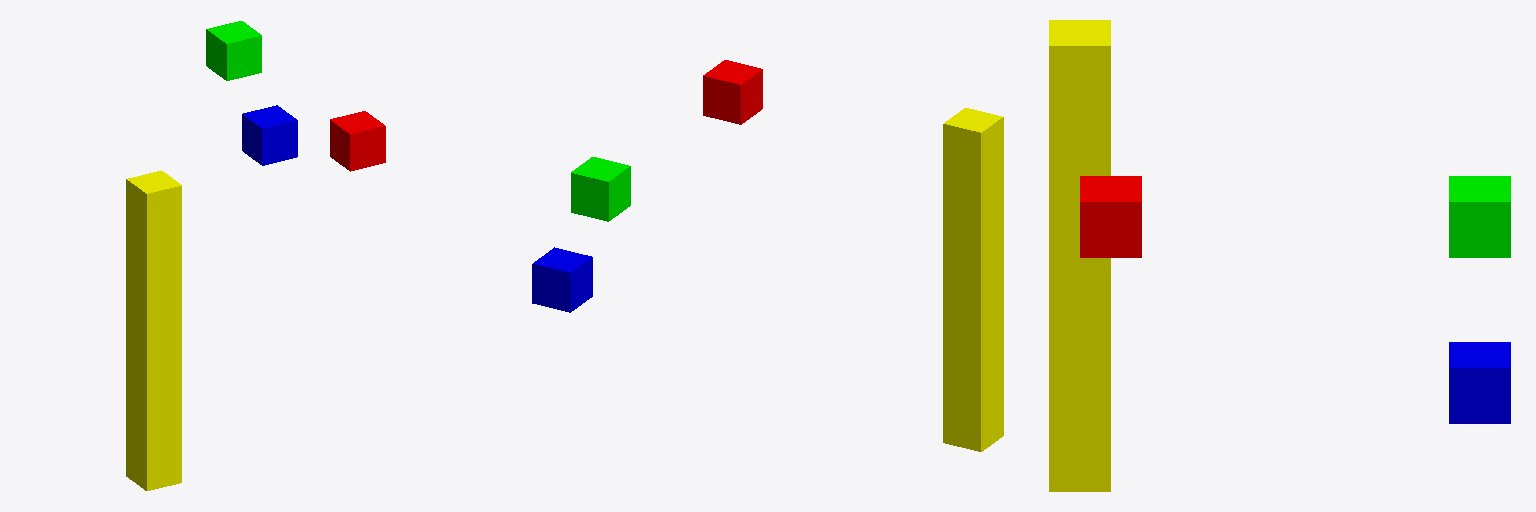
robot.urdf — pppbot:
<?xml version="1.0"?>
<robot name="pppbot">
    <link name="footprint" />

    <joint name="base_joint" type="fixed">
        <parent link="footprint"/>
        <child link="base_link"/>
    </joint>

    <link name="base_link">
        <collision>
            <geometry>
                <box size="0.05 0.05 0.4"/>
            </geometry>
            <origin rpy="0 0 0" xyz="0 0 0.2"/>
            <material name="yellow">
                <color rgba="1 1 0 1"/>
            </material>
        </collision>
        <visual>
            <geometry>
                <box size="0.05 0.05 0.4"/>
            </geometry>
            <origin rpy="0 0 0" xyz="0 0 0.2"/>
            <material name="yellow">
                <color rgba="1 1 0 1"/>
            </material>
        </visual>
        <inertial>
            <mass value="100"/>
            <inertia ixx="1.3542" ixy="0.0" ixz="0.0"
                     iyy="1.3542" iyz="0.0"
                     izz="0.0417"/>
        </inertial>
    </link>

    <joint name="x_extension" type="prismatic">
        <parent link="base_link"/>
        <child link="link_X"/>
        <limit effort="1000.0" lower="0.001" upper="0.5" velocity="0.5"/>
        <origin rpy="0 0 0" xyz="0.025 0 0.35"/>
        <axis xyz = "1 0 0" />
        <dynamics damping="5" friction="1"/>
    </joint>

    <link name="link_X">
        <collision>
            <geometry>
                <box size="0.05 0.05 0.05"/>
            </geometry>
            <!-- <origin rpy="0 0 0" xyz="0.21 0 0"/> -->
            <origin rpy="0 0 0" xyz="0.025 0.025 0.025"/>
            <material name="red">
                <color rgba="1 0 0 1"/>
            </material>
        </collision>
        <visual>
            <geometry>
                <box size="0.05 0.05 0.05"/>
            </geometry>
            <origin rpy="0 0 0" xyz="0.025 0.025 0.025"/>
            <material name="red">
                <color rgba="1 0 0 1"/>
            </material>
        </visual>
        <inertial>
            <mass value="1"/>
            <inertia ixx="0.0004167" ixy="0.0" ixz="0.0"
                     iyy="0.0004167" iyz="0.0"
                     izz="0.0004167"/>
        </inertial>
    </link>

    <joint name="y_extension" type="prismatic">
        <parent link="link_X"/>
        <child link="link_Y"/>
        <limit effort="1000.0" lower="0.001" upper="0.5" velocity="0.5"/>
        <!-- <origin rpy="0 0 1.57075" xyz="0.05 0.05 0"/> -->
        <origin rpy="0 0 0" xyz="0 0.05 0"/>
        <axis xyz = "0 1 0" />
        <dynamics damping="5" friction="1"/>
    </joint>

    <link name="link_Y">
        <collision>
            <geometry>
                <box size="0.05 0.05 0.05"/>
            </geometry>
            <origin rpy="0 0 0" xyz="0.025 0.025 0.025"/>
            <material name="green">
                <color rgba="0 1 0 1"/>
            </material>
        </collision>
        <visual>
            <geometry>
                <box size="0.05 0.05 0.05"/>
            </geometry>
            <origin rpy="0 0 0" xyz="0.025 0.025 0.025"/>
            <material name="green">
                <color rgba="0 1 0 1"/>
            </material>
        </visual>
        <inertial>
            <mass value="1"/>
            <inertia ixx="0.0004167" ixy="0.0" ixz="0.0"
                     iyy="0.0004167" iyz="0.0"
                     izz="0.0004167"/>
        </inertial>
    </link>

    <joint name="z_extension" type="prismatic">
        <parent link="link_Y"/>
        <child link="link_Z"/>
        <limit effort="1000.0" lower="0.001" upper="0.25" velocity="0.5"/>
        <!-- <origin rpy="0 1.57075 0" xyz="0 0 0"/> -->
        <origin rpy="0 0 0" xyz="0.05 0 0"/>
        <axis xyz = "0 0 -1" />
        <dynamics damping="5" friction="10"/>
    </joint>

    <link name="link_Z">
        <collision>
            <geometry>
                <box size="0.05 0.05 0.05"/>
            </geometry>
            <origin rpy="0 0 0" xyz="0.025 0.025 0.025"/>
            <material name="blue">
                <color rgba="0 0 1 1"/>
            </material>
        </collision>
        <visual>
            <geometry>
                <box size="0.05 0.05 0.05"/>
            </geometry>
            <origin rpy="0 0 0" xyz="0.025 0.025 0.025"/>
            <material name="blue">
                <color rgba="0 0 1 1"/>
            </material>
        </visual>
        <inertial>
            <mass value="0.1"/>
            <inertia ixx="0.00004167" ixy="0.0" ixz="0.0"
                     iyy="0.00004167" iyz="0.0"
                     izz="0.00004167"/>
        </inertial>
    </link>

    <transmission name="X_trans">
        <type>transmission_interface/SimpleTransmission</type>
        <joint name="x_extension">
            <!-- Added <hardwareInterface> tag as work around to error - "No valid hardware interface element found in joint"
                 Refer: https://answers.ros.org/question/186681/no-valid-hardware-interface-element-found-in-joint/ -->
            <hardwareInterface>hardware_interface/EffortJointInterface</hardwareInterface>
        </joint>
        <actuator name="X_Motor">
            <hardwareInterface>hardware_interface/EffortJointInterface</hardwareInterface>
            <mechanicalReduction>10</mechanicalReduction>
        </actuator>
    </transmission>

    <transmission name="Y_trans">
        <type>transmission_interface/SimpleTransmission</type>
        <joint name="y_extension">
            <!-- Added <hardwareInterface> tag as work around to error - "No valid hardware interface element found in joint"
                 Refer: https://answers.ros.org/question/186681/no-valid-hardware-interface-element-found-in-joint/ -->
            <hardwareInterface>hardware_interface/EffortJointInterface</hardwareInterface>
        </joint>
        <actuator name="Y_Motor">
            <hardwareInterface>hardware_interface/EffortJointInterface</hardwareInterface>
            <mechanicalReduction>10</mechanicalReduction>
        </actuator>
    </transmission>

    <transmission name="Z_trans">
        <type>transmission_interface/SimpleTransmission</type>
        <joint name="z_extension">
            <!-- Added <hardwareInterface> tag as work around to error - "No valid hardware interface element found in joint"
                 Refer: https://answers.ros.org/question/186681/no-valid-hardware-interface-element-found-in-joint/ -->
            <hardwareInterface>hardware_interface/EffortJointInterface</hardwareInterface>
        </joint>
        <actuator name="Z_Motor">
            <hardwareInterface>hardware_interface/EffortJointInterface</hardwareInterface>
            <mechanicalReduction>10</mechanicalReduction>
        </actuator>
    </transmission>

    <!-- ros_control plugin -->
    <gazebo>
        <plugin name="gazebo_ros_control" filename="libgazebo_ros_control.so">
            <robotNamespace>/pppbot</robotNamespace>
            <robotSimType>gazebo_ros_control/DefaultRobotHWSim</robotSimType>
            <!-- Added <legacyModeNS> tag as work around to bug regarding the robotNamespace in default_robot_hw_sim.cpp (see #637)
                 Refer: https://answers.ros.org/question/292444/gazebo_ros_control-plugin-gazeboroscontrolplugin-missing-legacymodens-defaultrobothwsim/ -->
            <legacyModeNS>true</legacyModeNS>
        </plugin>
    </gazebo>

    <gazebo reference="base_link">
        <material>Gazebo/Yellow</material>
    </gazebo>

    <gazebo reference="link_X">
        <material>Gazebo/Red</material>
    </gazebo>

    <gazebo reference="link_Y">
        <material>Gazebo/Green</material>
    </gazebo>

    <gazebo reference="link_Z">
        <material>Gazebo/Blue</material>
    </gazebo>
</robot>

--- Render facts (derived) ---
The picture shows the robot from 3 angles, left to right: view 1: azimuth 30°, elevation 25°; view 2: azimuth 150°, elevation 25°; view 3: azimuth 270°, elevation 25°; orthographic projection.
Robot: pppbot — 5 links, 4 joints (3 prismatic, 1 fixed); root link footprint; default pose: joints at zero except 3 at the middle of their limits (x_extension = 0.2505, y_extension = 0.2505, z_extension = 0.1255).
Visible links, largest first — view 1: base_link, link_Z, link_Y, link_X; view 2: base_link, link_Z, link_X, link_Y; view 3: base_link, link_X, link_Y, link_Z.
Link boxes in pixels (x1,y1,x2,y2): base_link: [126, 170, 181, 490]; link_Z: [242, 105, 297, 165]; link_Y: [206, 21, 261, 80]; link_X: [330, 111, 385, 171]; base_link: [943, 108, 1003, 451]; link_Z: [532, 247, 592, 312]; link_X: [703, 60, 762, 124]; link_Y: [571, 157, 630, 221]; base_link: [1049, 20, 1110, 491]; link_X: [1080, 176, 1141, 257]; link_Y: [1449, 176, 1510, 257]; link_Z: [1449, 342, 1510, 423].
Bounding box of the posed robot: 0.4005 × 0.3755 × 0.4 m (x, y, z).
Geometry: primitives only (box / cylinder / sphere), no mesh files.